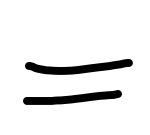eqv: (24, 59, 132, 104)
